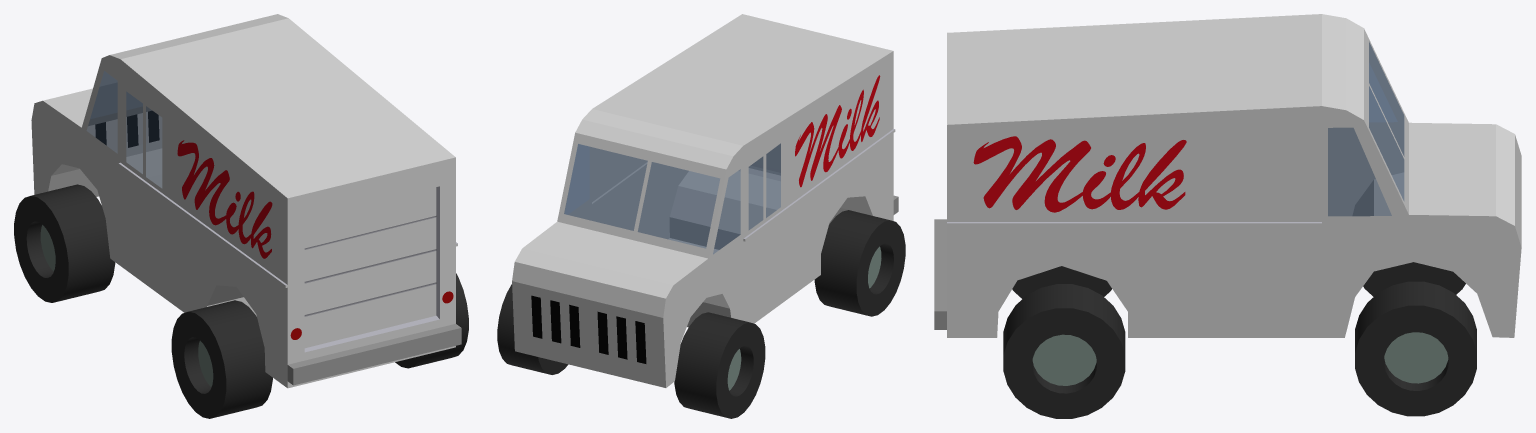
The model's file is milktruck.dae.
The picture shows the model from 3 angles, left to right: view 1: azimuth 30°, elevation 25°; view 2: azimuth 150°, elevation 25°; view 3: azimuth 270°, elevation 25°; orthographic projection. The views are drawn at different scales.
Parts seen in each view (by area): view 1: SketchUp (×19), Milk (×2); view 2: SketchUp (×18), Milk (×2); view 3: SketchUp (×15), Milk (×4).
Boxes of the visible parts, box(x1,y1,x2,y2) form: SketchUp (×19): box(14, 14, 468, 418); Milk (×2): box(177, 140, 272, 258); SketchUp (×18): box(497, 14, 905, 418); Milk (×2): box(795, 75, 880, 187); SketchUp (×15): box(934, 14, 1521, 418); Milk (×4): box(973, 136, 1186, 212).
Bounding box in the file's own units: 138 × 255 × 141.
